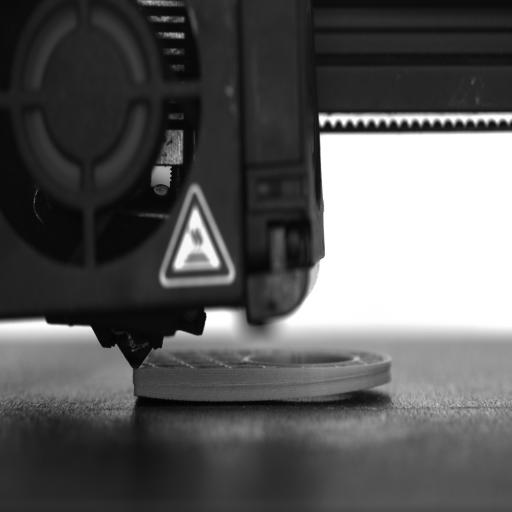warp: (129, 382, 198, 407)
